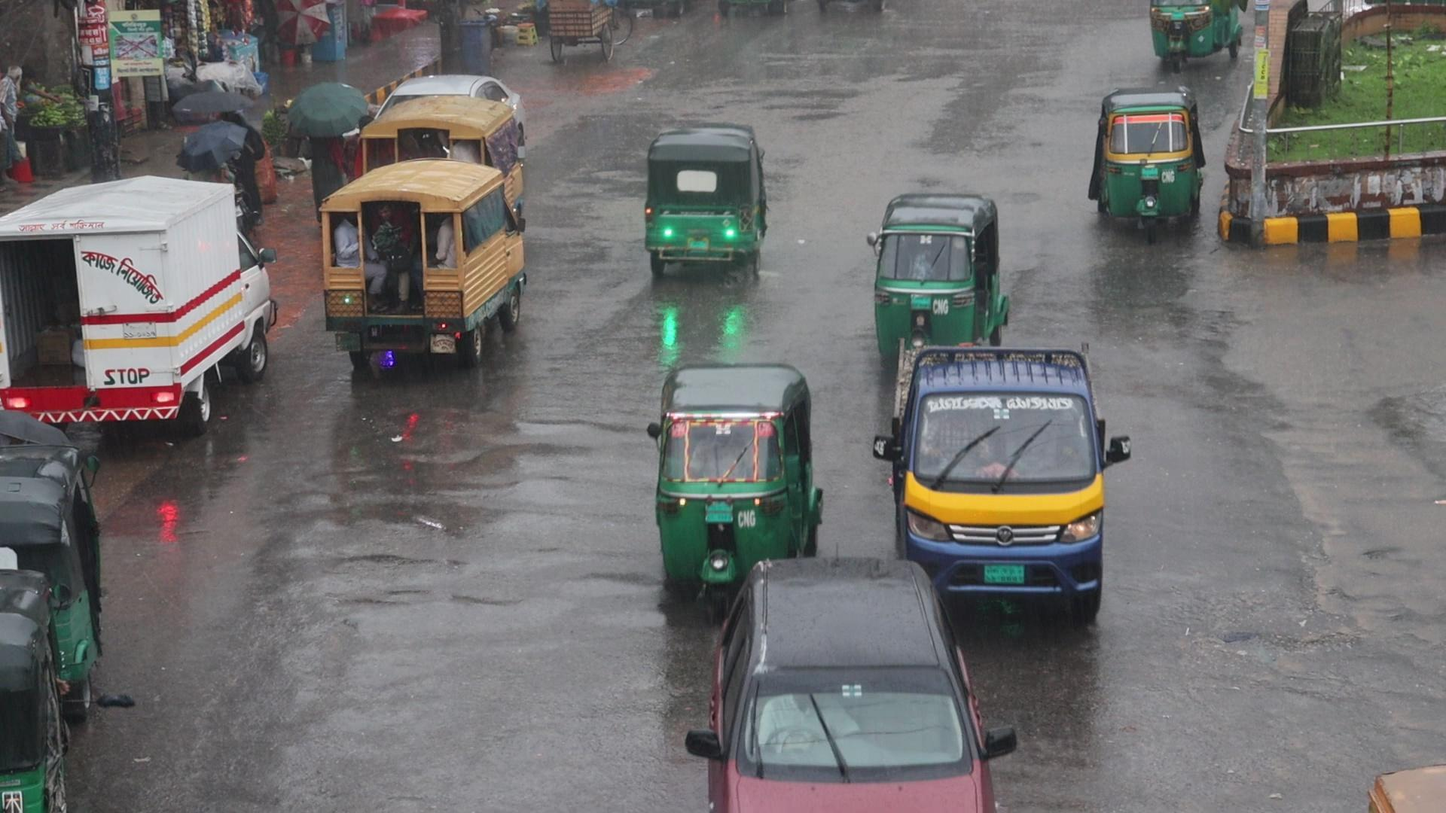Car: (685, 555, 1017, 813)
Truck: (884, 338, 1110, 582), (317, 158, 524, 367)
